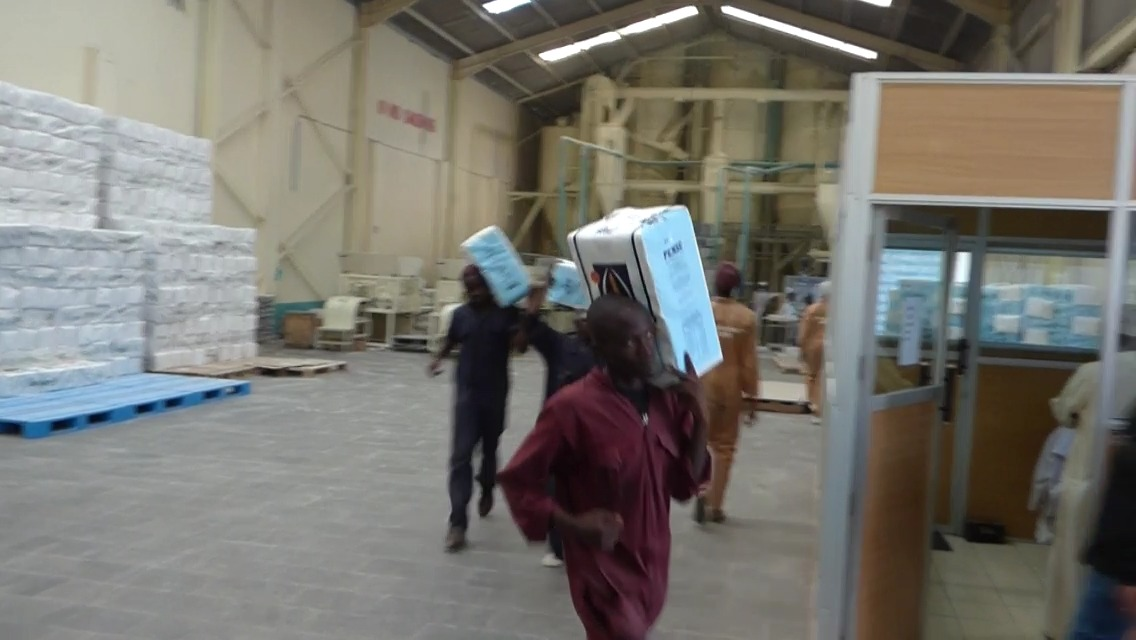wheat_flour_blue_label: (566, 209, 724, 383)
